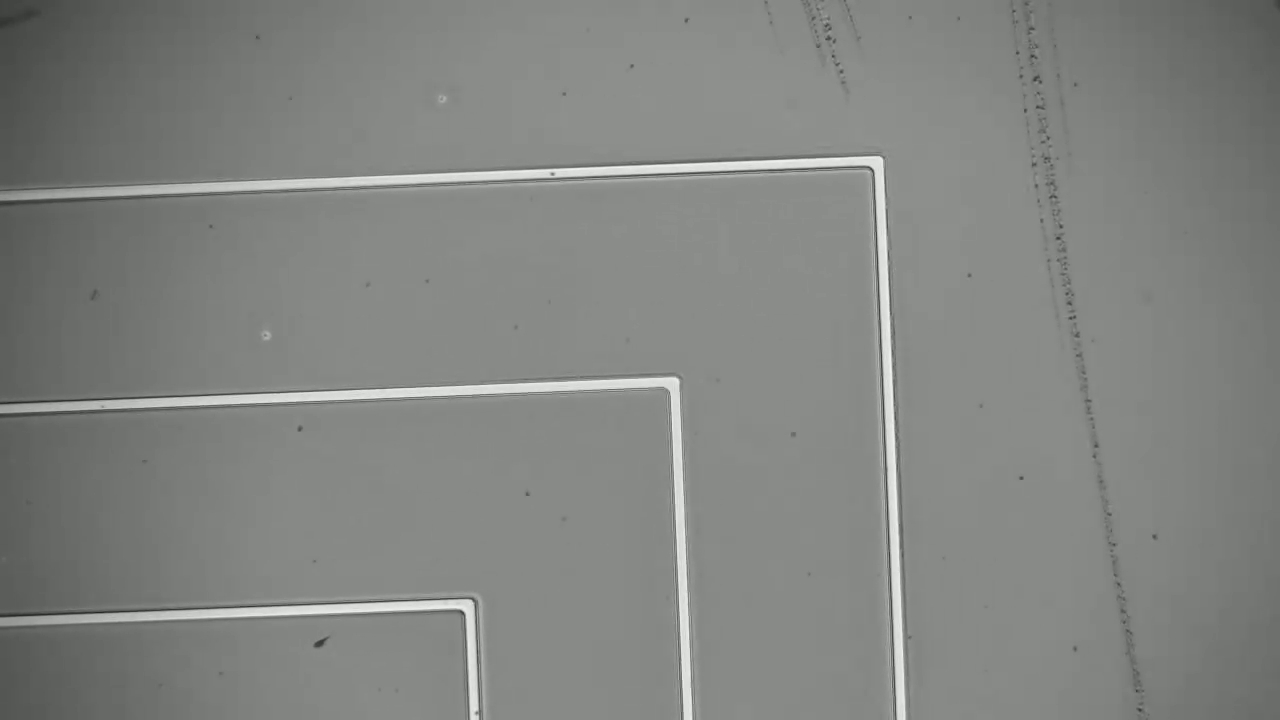scratch: (1015, 6, 1158, 716), (772, 1, 875, 99)
